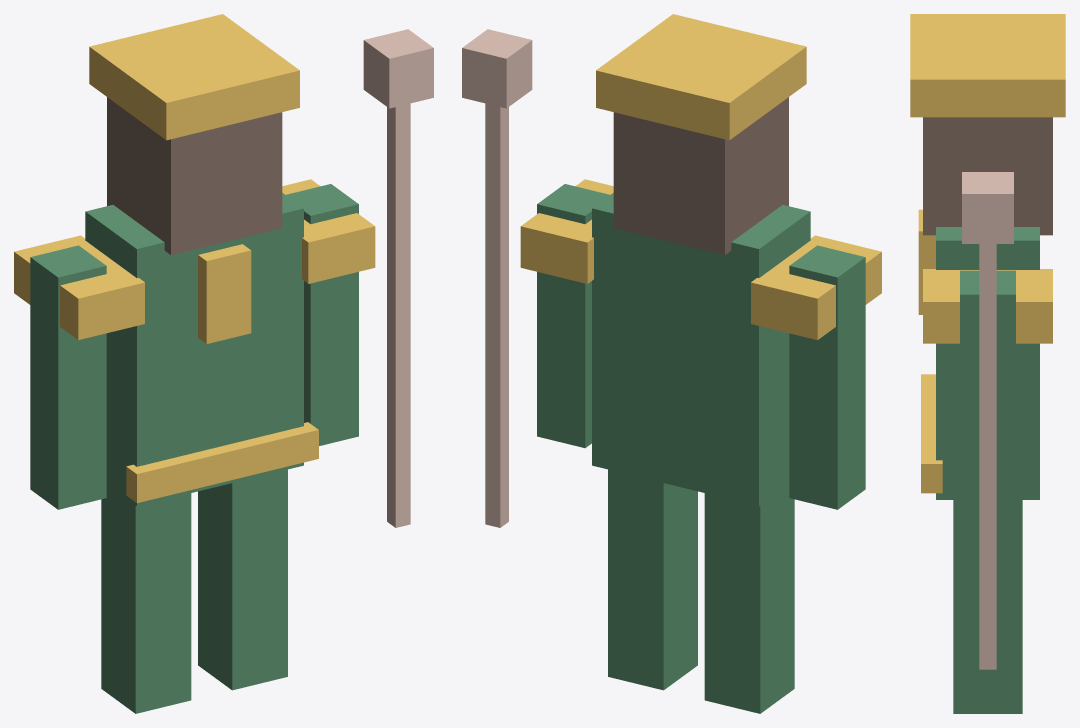
Rendered from 04_asha_riftwalker_sentinel_of_hushbloom.glb.
3 views of the same model, side by side, from view 1: azimuth 30°, elevation 25°; view 2: azimuth 150°, elevation 25°; view 3: azimuth 270°, elevation 25° (orthographic).
Visible parts, largest first — view 1: Asha Riftwalker, Sentinel of Hushbloom; view 2: Asha Riftwalker, Sentinel of Hushbloom; view 3: Asha Riftwalker, Sentinel of Hushbloom.
Part boxes in pixels (box(x1,y1,x2,y2)): Asha Riftwalker, Sentinel of Hushbloom: box(14, 14, 433, 713); Asha Riftwalker, Sentinel of Hushbloom: box(462, 14, 881, 713); Asha Riftwalker, Sentinel of Hushbloom: box(910, 14, 1065, 713).
Size of the model in its own units: 0.9507 by 1.51 by 0.3372.
